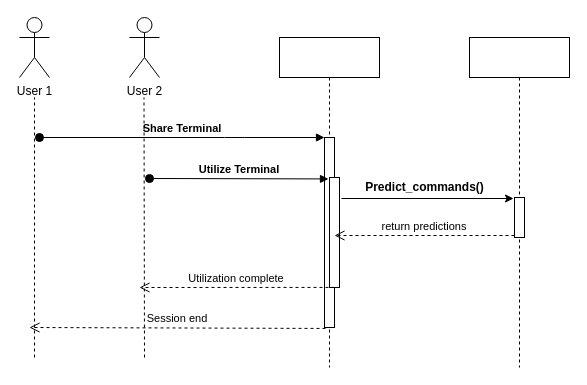
Image size: 587x385. Some labels were removed from this diagram. Each missing label, with the centre of its shape:
:NLP model: (519,202)
:Terminal: (329,202)
